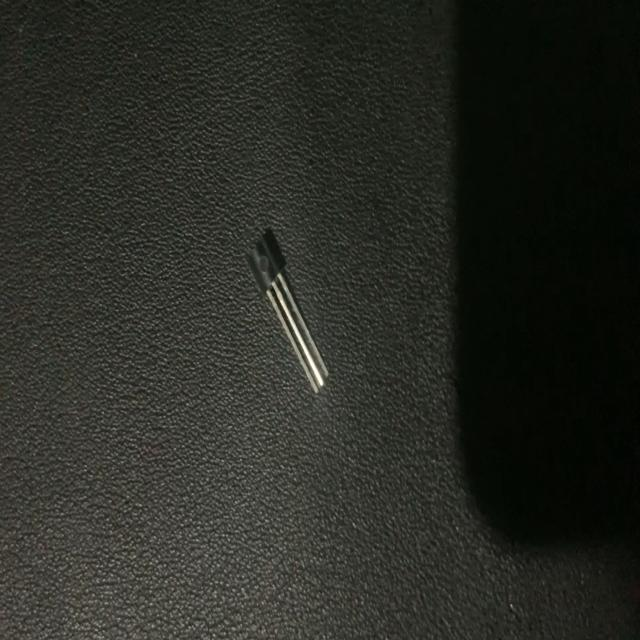BJT: (247, 230, 329, 395)
